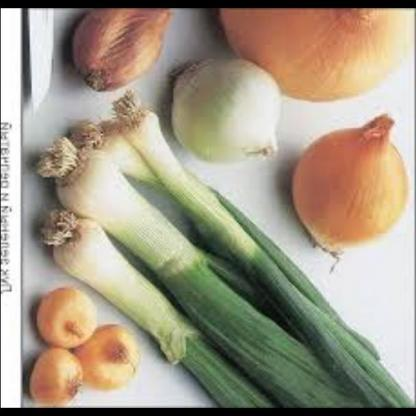onion: (213, 9, 414, 102), (287, 125, 416, 262), (174, 52, 284, 168), (66, 9, 176, 85), (78, 314, 148, 398), (35, 285, 102, 351), (30, 347, 92, 406)
